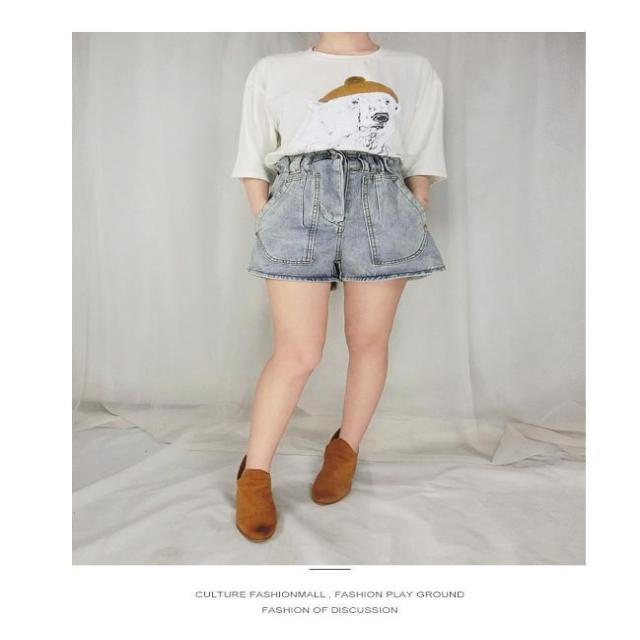long sleeve top: (237, 47, 444, 181)
shorts: (249, 154, 447, 279)
